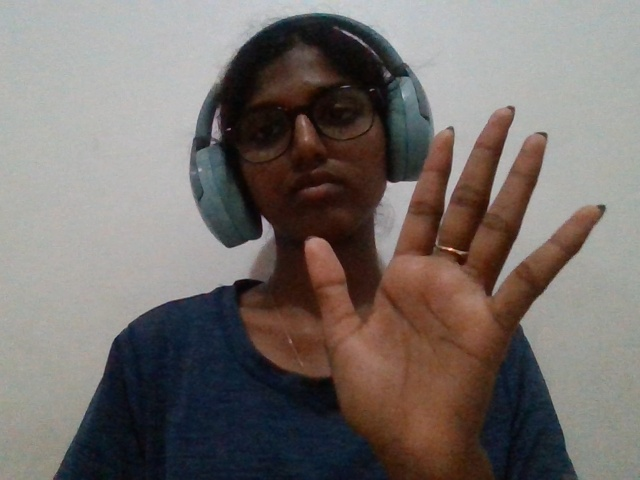Bye: (256, 93, 627, 468)
